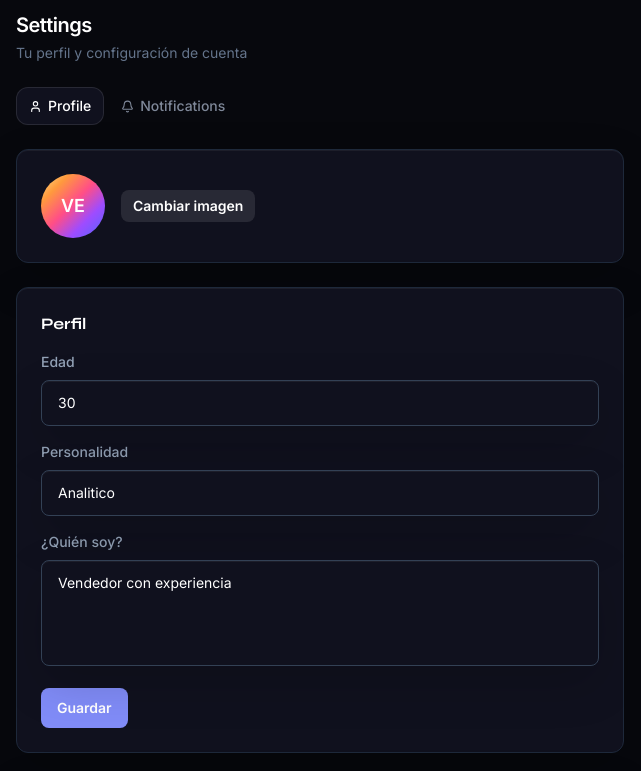
Scenario: SettingsScreen › prefills the profile fields from getMyProfile and saves edits without the gate reappearing
This screenshot has width=641, height=771.
Check: the number field labelled "Edad" holds "30", box 41,380 -> 599,426
Check: the text box labelled "¿Quién soy?" holds "Vendedor con experiencia", box 41,560 -> 599,666
Step 1. Replace the text in the field labelled "Personalidad" with "Extrovertido" → (320, 493), box 41,470 -> 599,516
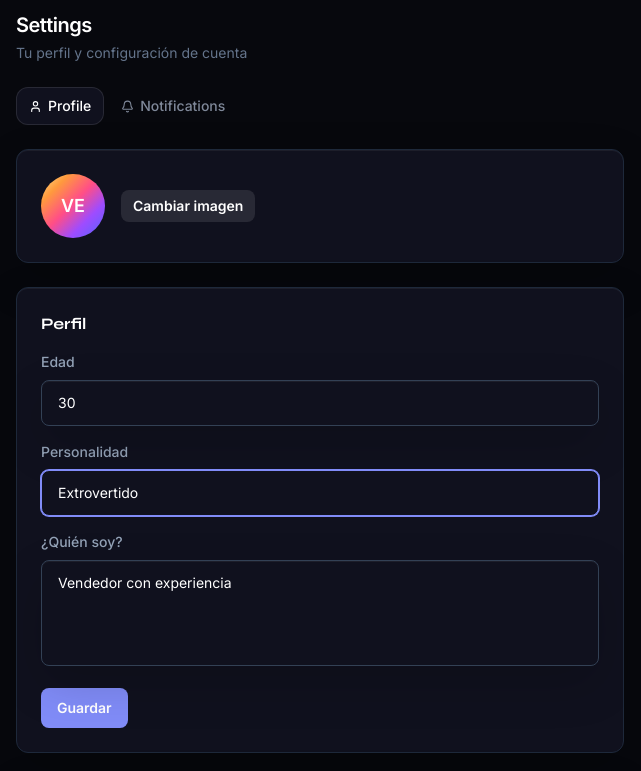
Step 2. Click the button "Guardar" → (84, 708), box 41,688 -> 128,728
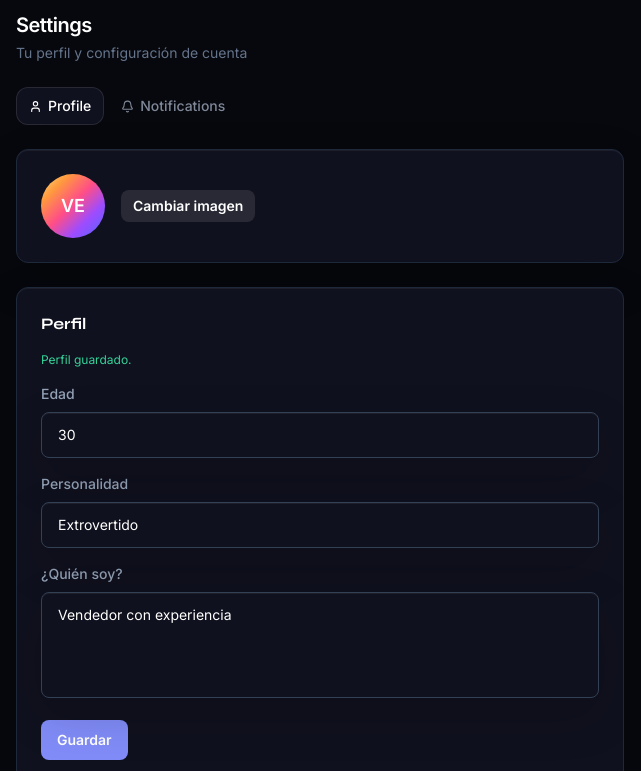
Check: the text "Perfil guardado." is shown, box 41,352 -> 132,367
